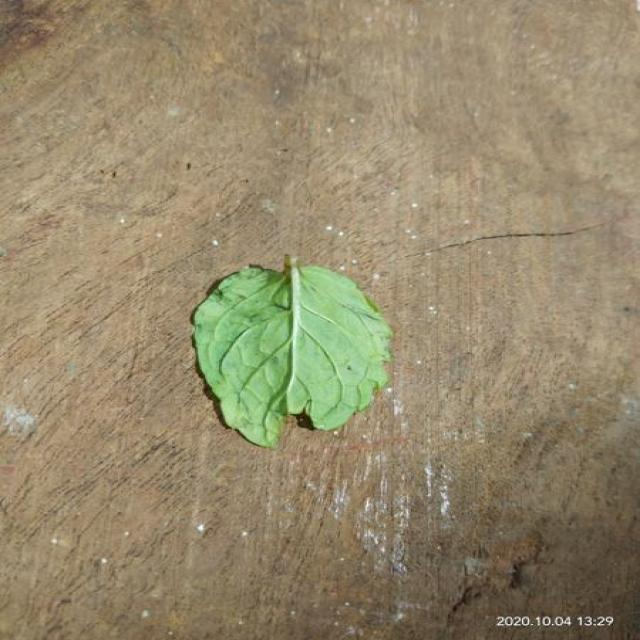mint: (193, 258, 392, 447)
